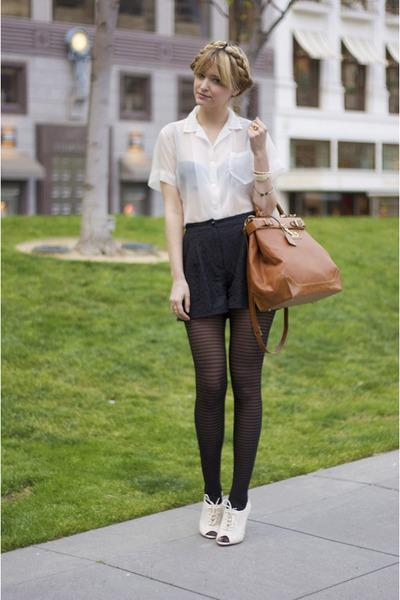bag: (247, 191, 341, 322)
shirt: (148, 108, 291, 221)
shoe: (200, 492, 248, 546)
skirt: (180, 210, 260, 323)
